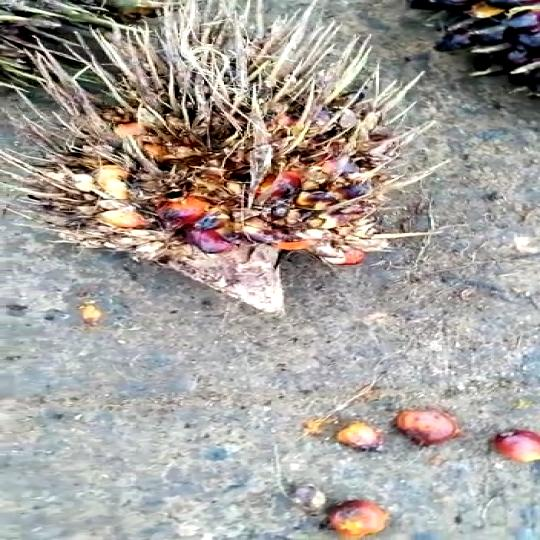terlalu masak: (0, 0, 451, 311)
